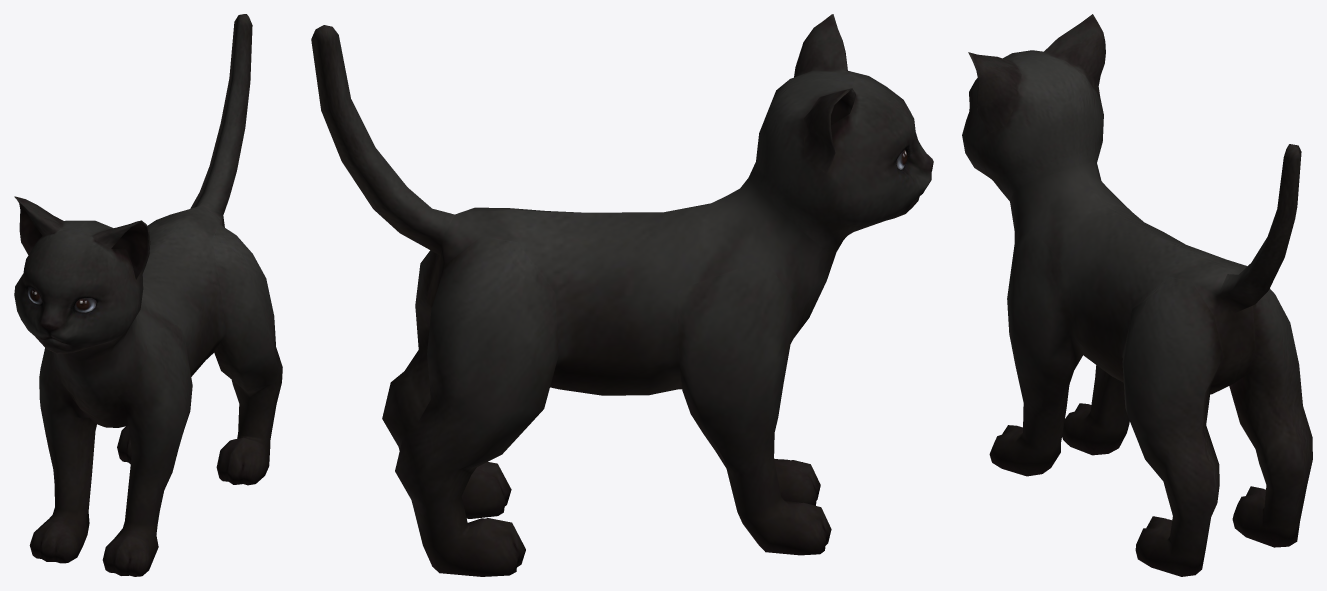
Rendered from cat_5.fbx.
The picture shows the model from 3 angles, left to right: view 1: azimuth 30°, elevation 25°; view 2: azimuth 150°, elevation 25°; view 3: azimuth 270°, elevation 25°; orthographic projection. The views are drawn at different scales.
Visible parts, largest first — view 1: cat_05; view 2: cat_05; view 3: cat_05.
Boxes of the visible parts, left/top/right/bottom form: cat_05: left=14, top=14, right=282, bottom=576; cat_05: left=311, top=14, right=933, bottom=576; cat_05: left=962, top=14, right=1312, bottom=576.
Bounding box in the file's own units: 0.0942 × 0.1049 × 0.0748.
Materials: 1 (1 with a texture image).
